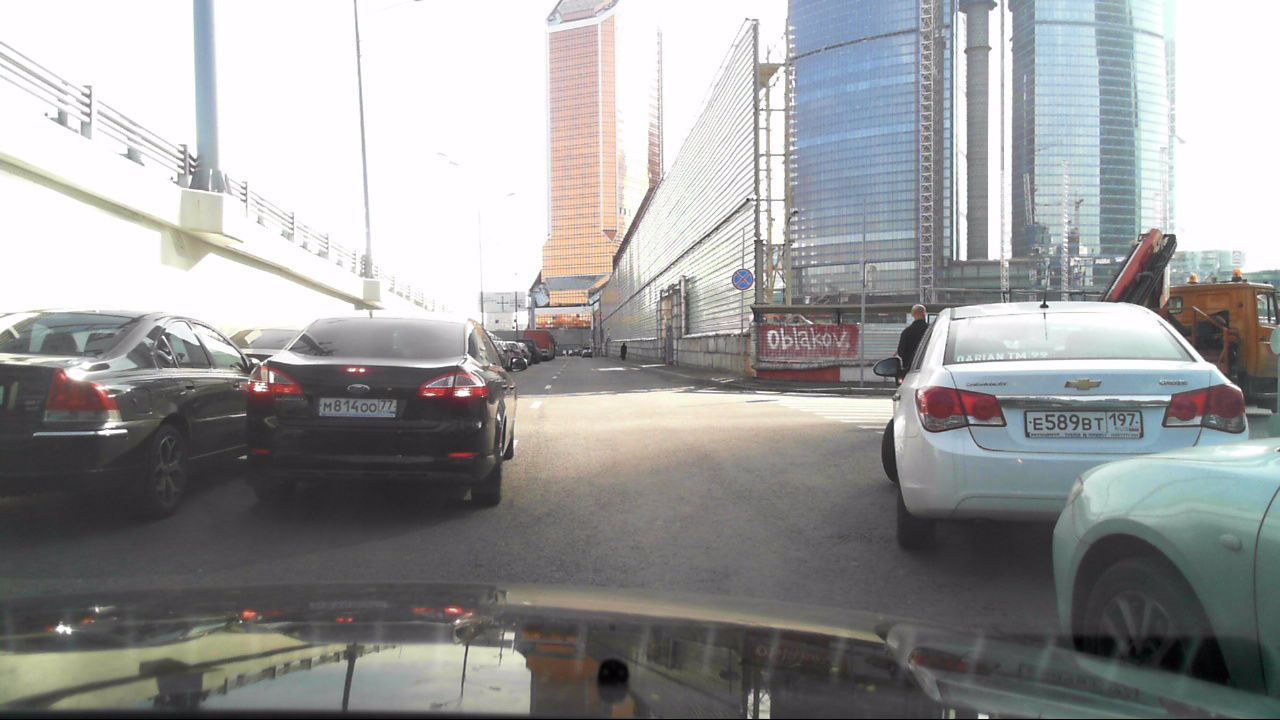No Parking: (729, 267, 754, 293)
